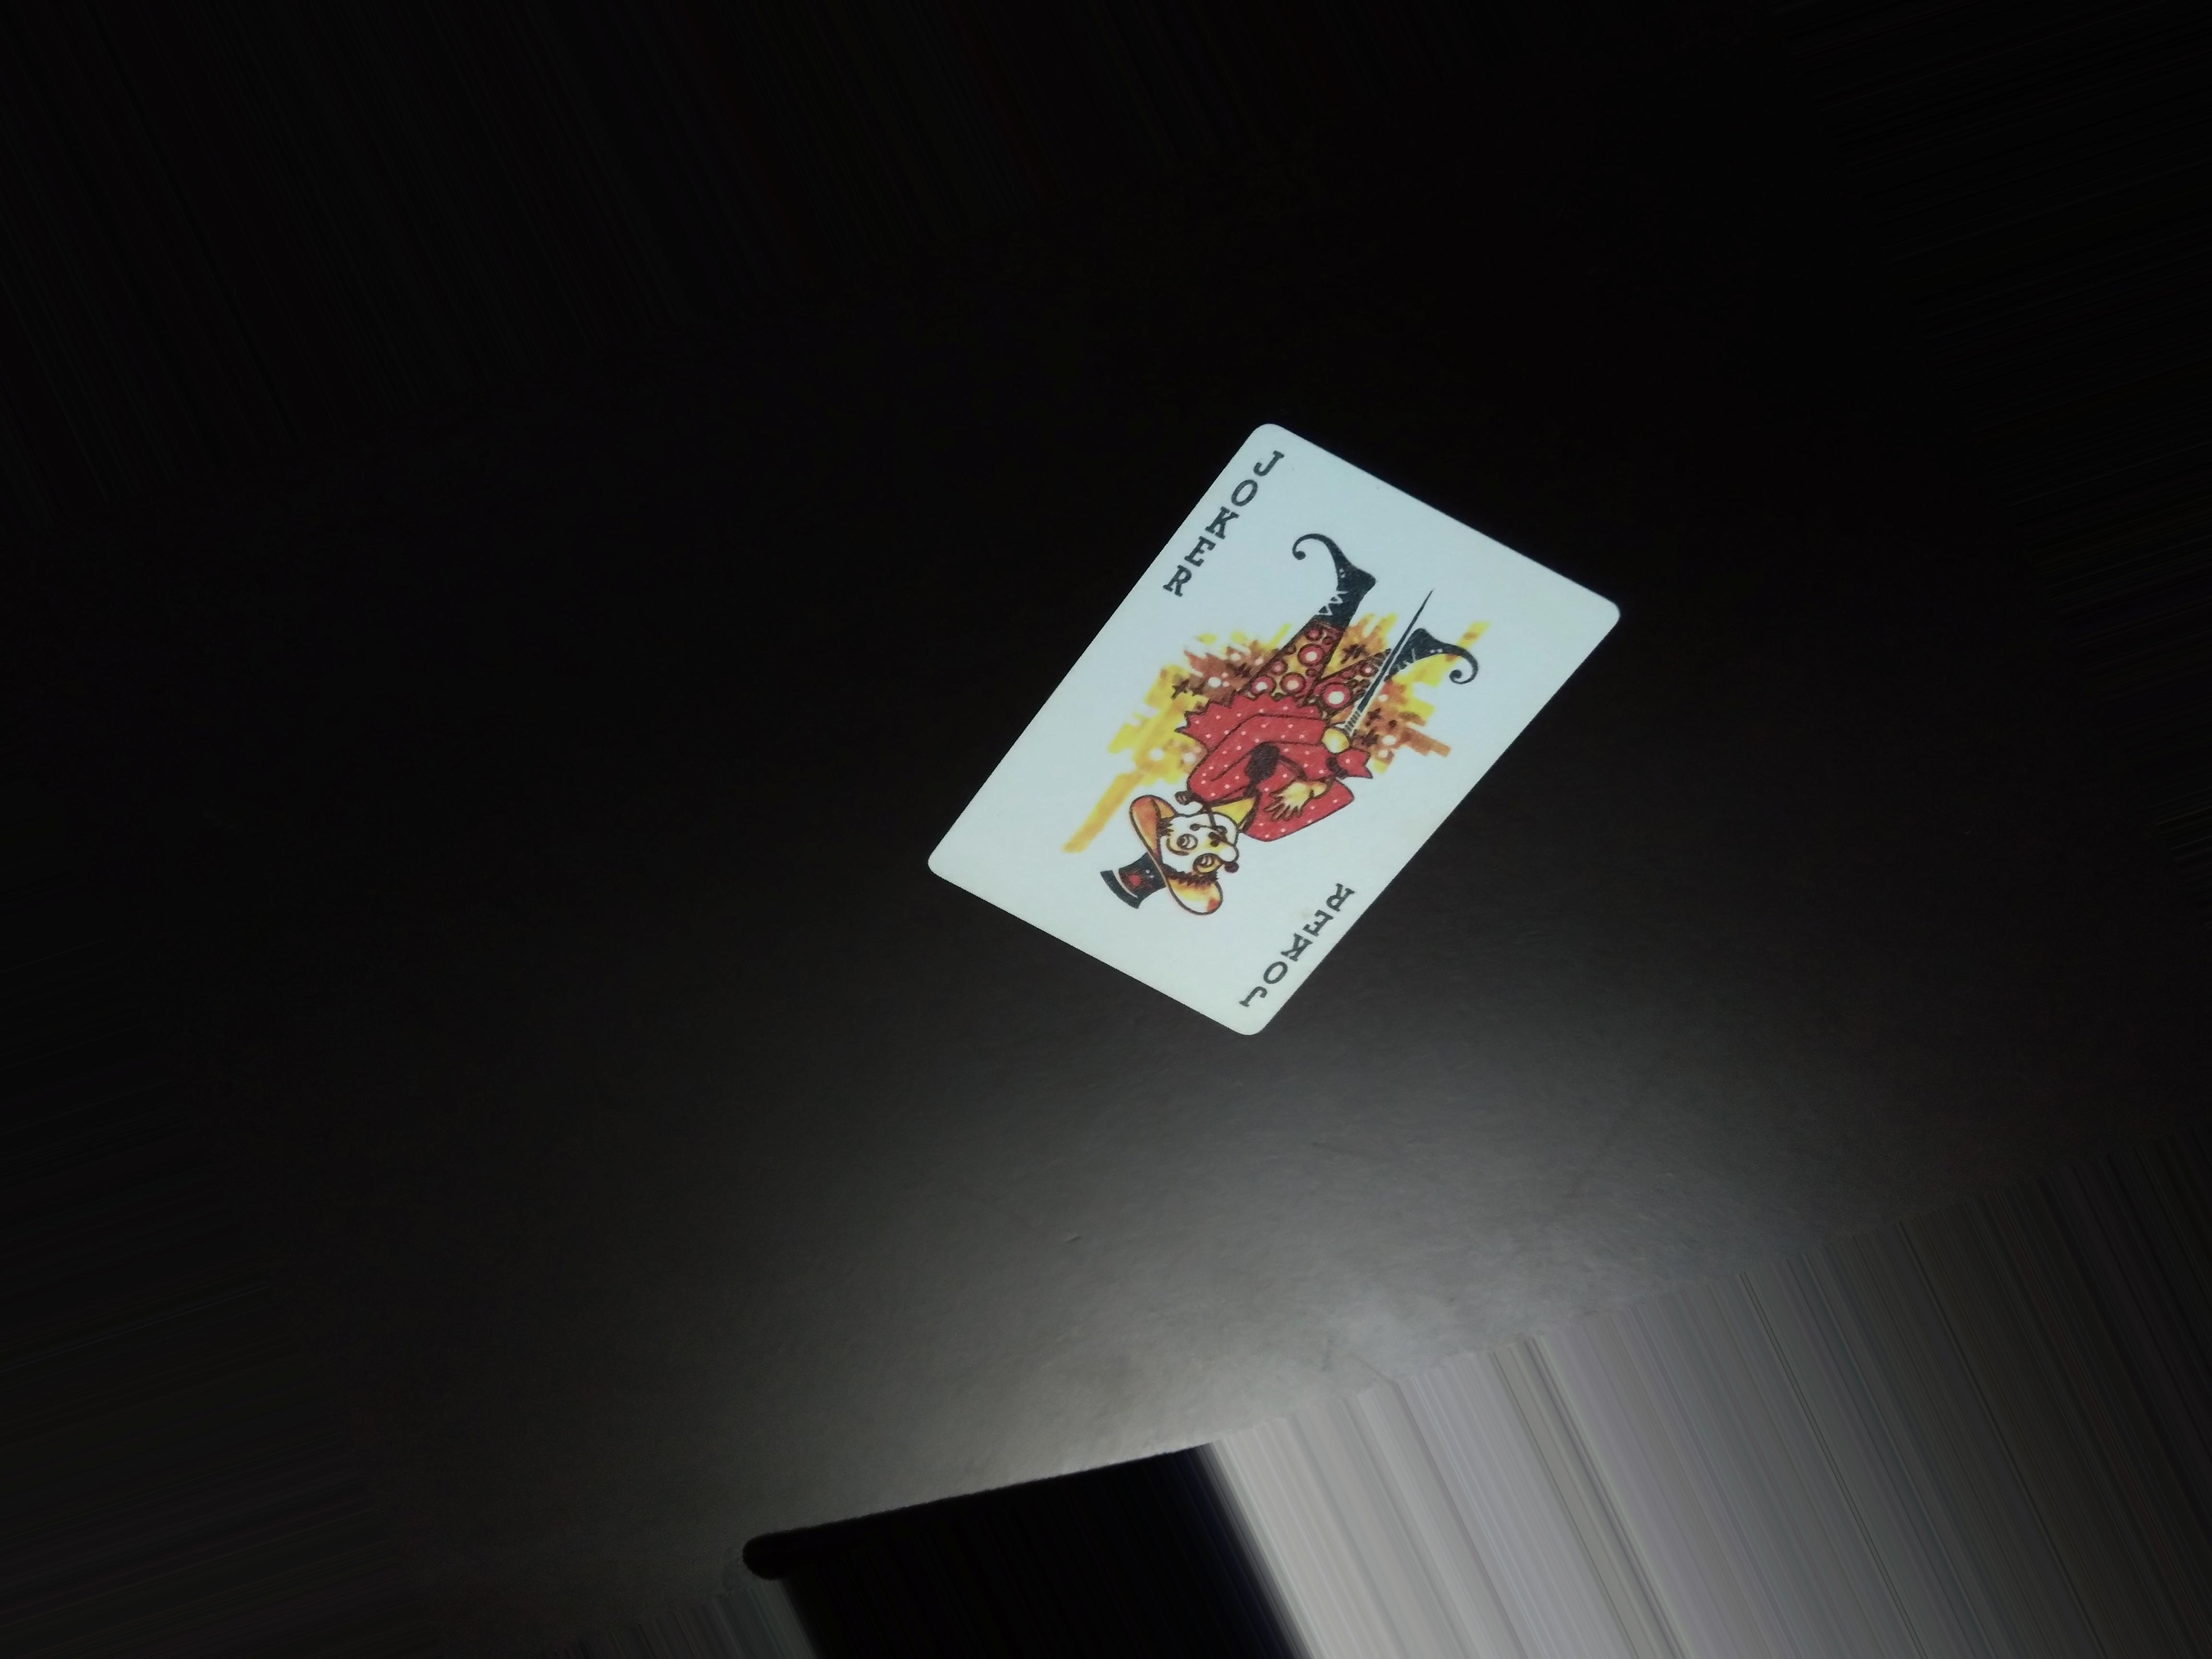JOKER: (1233, 873, 1355, 1016)
